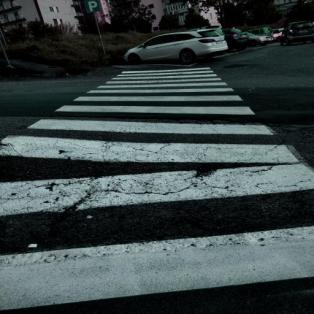Paso de Cebra: (22, 104, 277, 138), (90, 76, 232, 90)
